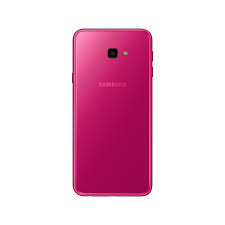samsung: (70, 27, 154, 198)
